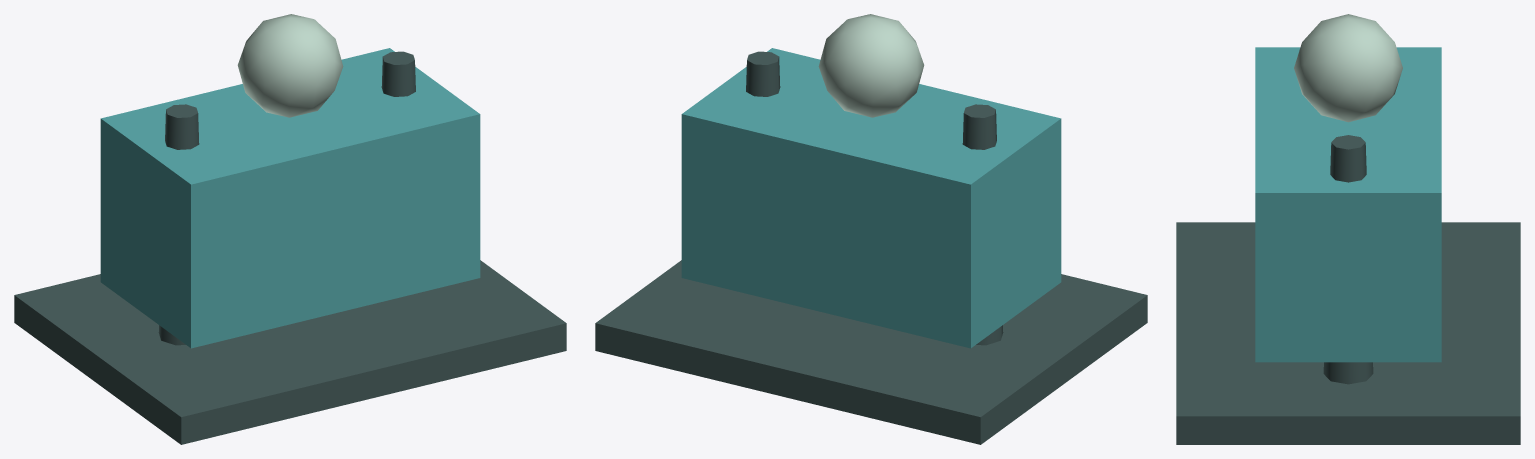
The model's file is bird_bath.glb.
3 views of the same model, side by side, from view 1: azimuth 30°, elevation 25°; view 2: azimuth 150°, elevation 25°; view 3: azimuth 270°, elevation 25° (orthographic). The views are drawn at different scales.
Parts seen in each view (by area): view 1: habitat_bowl, habitat_base, habitat_marker, habitat_post_-1, habitat_post_1; view 2: habitat_bowl, habitat_base, habitat_marker, habitat_post_-1, habitat_post_1; view 3: habitat_bowl, habitat_base, habitat_marker, habitat_post_1.
Part boxes in pixels (x1,y1,x2,y2): habitat_bowl: (100, 48, 480, 348); habitat_base: (14, 260, 566, 444); habitat_marker: (237, 14, 343, 117); habitat_post_-1: (158, 104, 199, 345); habitat_post_1: (381, 51, 415, 96); habitat_bowl: (681, 48, 1061, 348); habitat_base: (595, 260, 1147, 444); habitat_marker: (818, 14, 924, 117); habitat_post_-1: (962, 104, 1003, 345); habitat_post_1: (746, 51, 780, 96); habitat_bowl: (1255, 47, 1441, 362); habitat_base: (1176, 222, 1520, 444); habitat_marker: (1294, 14, 1402, 122); habitat_post_1: (1323, 135, 1373, 384).
Size of what is drawn, in the model's own units: 3.2 by 2.53 by 2.4.
